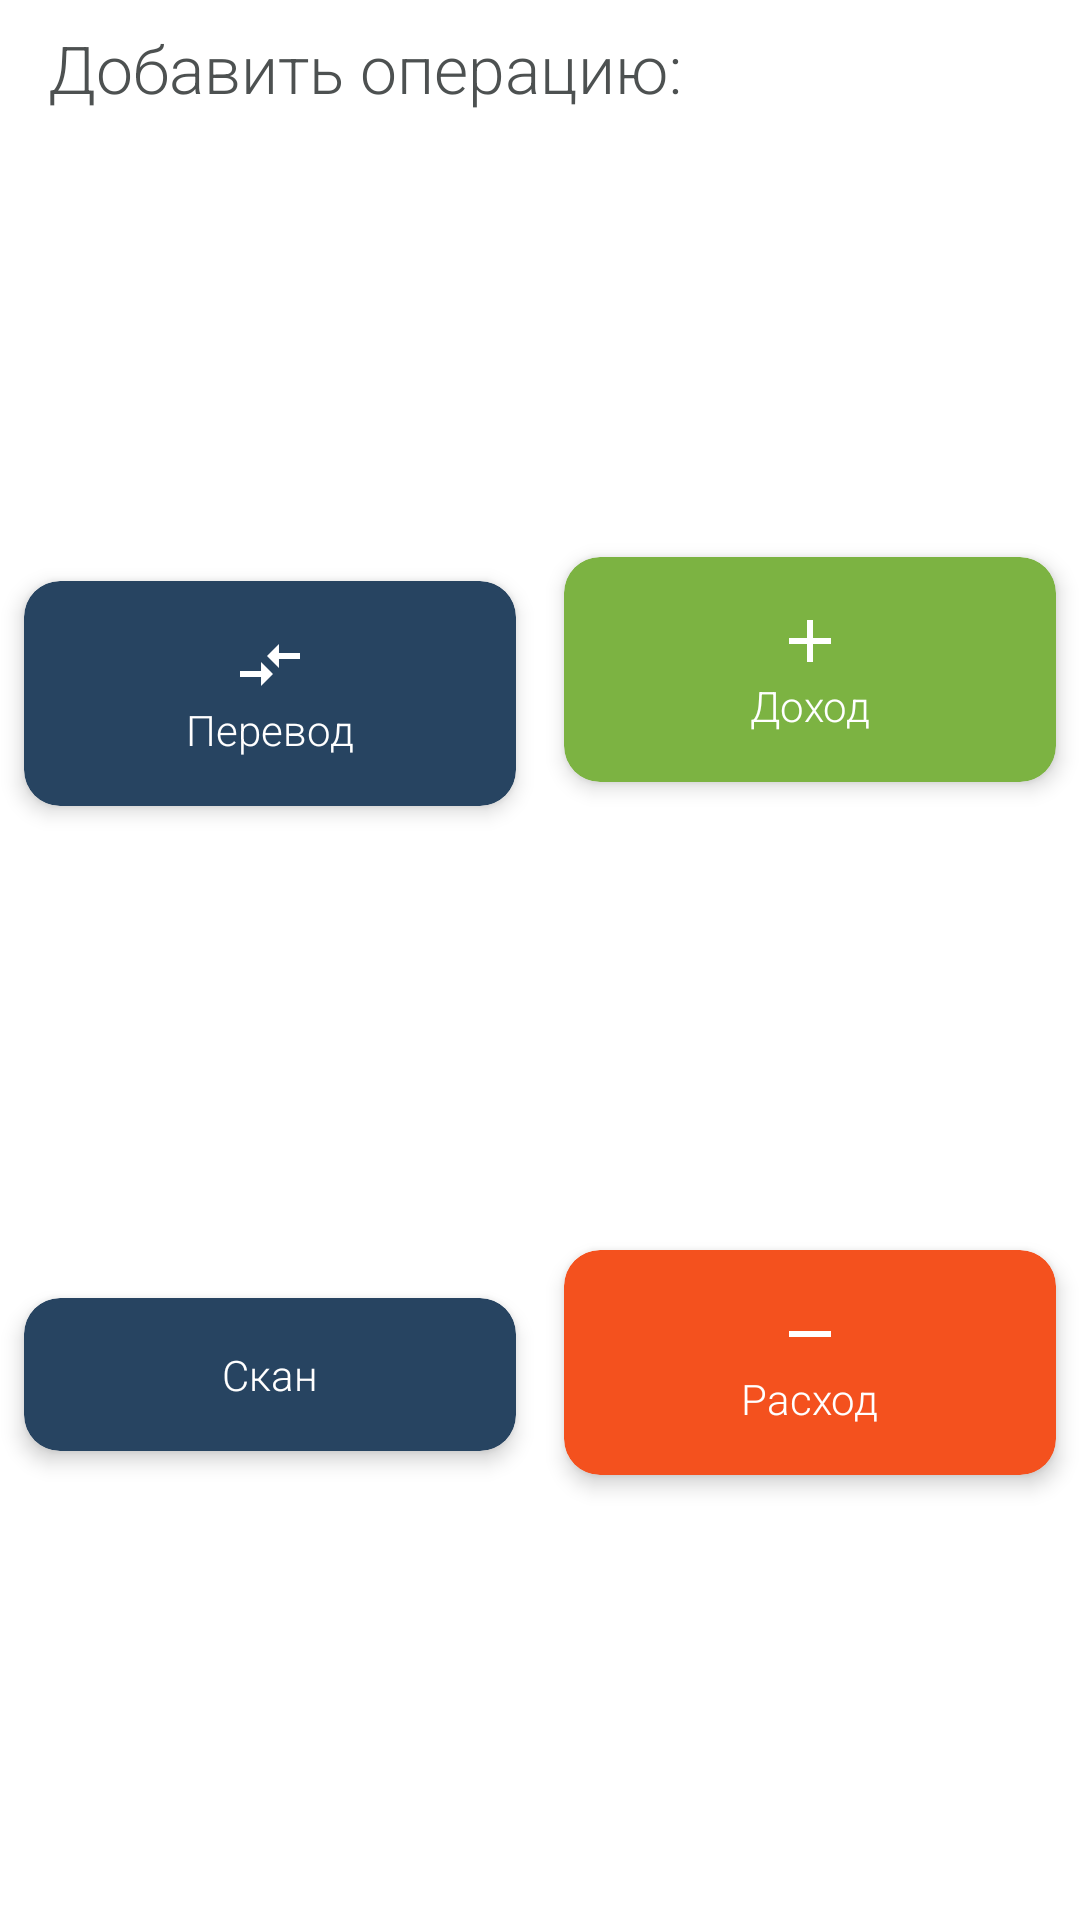

Where icons sit on this 1080*1920 app screen, as (x1, y1, x2, y2):
add: (789, 620, 831, 662)
compare: (240, 644, 300, 686)
